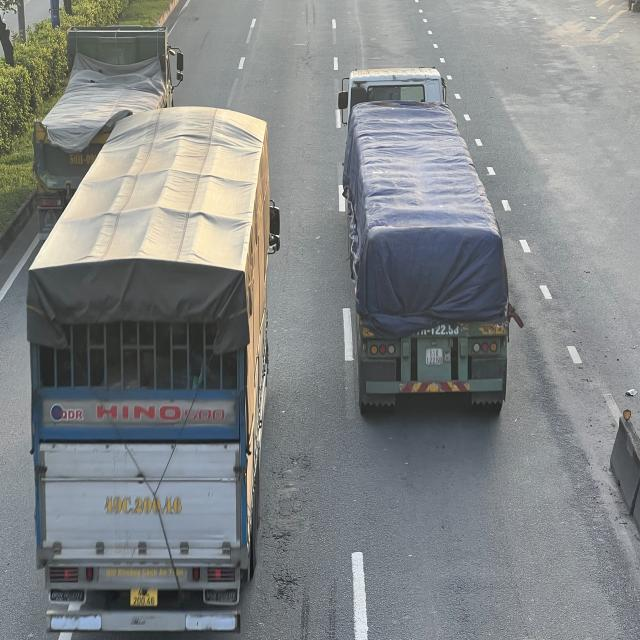container: (340, 72, 514, 424), (36, 22, 159, 194)
truck: (28, 103, 284, 634)
